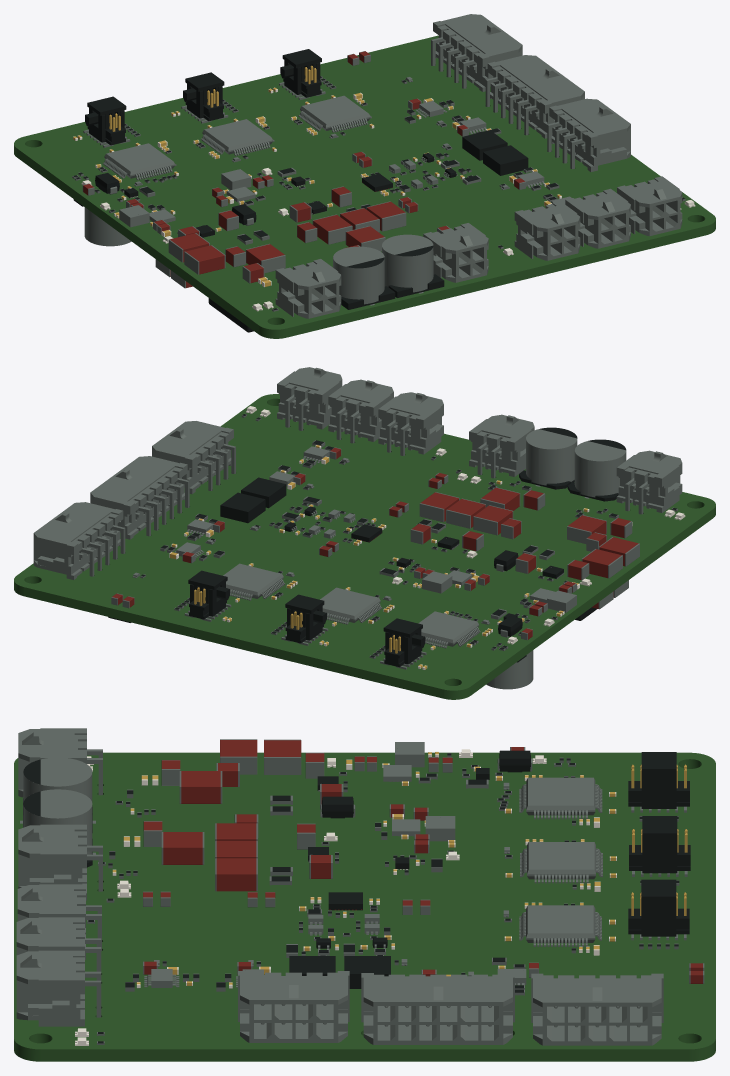
File: recovery.glb
3 renders of one model, top to bottom at view 1: azimuth 30°, elevation 25°; view 2: azimuth 150°, elevation 25°; view 3: azimuth 270°, elevation 25°, orthographic. The views are drawn at different scales.
Bounding box in the file's own units: 102 × 20.79 × 102.
